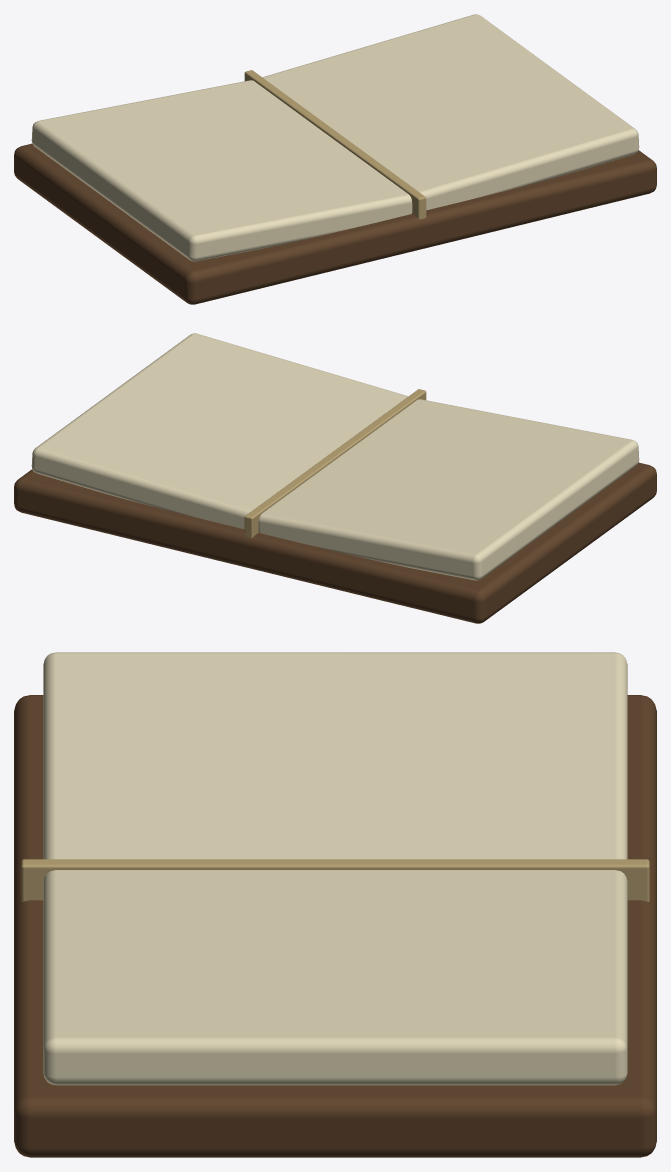
Rendered from referencebook.glb.
3 views of the same model, one above another, from view 1: azimuth 30°, elevation 25°; view 2: azimuth 150°, elevation 25°; view 3: azimuth 270°, elevation 25° (orthographic). The views are drawn at different scales.
Parts seen in each view (by area): view 1: referencebook; view 2: referencebook; view 3: referencebook.
Boxes of the visible parts, x1=… form: referencebook: x1=14, y1=14, x2=656, y2=304; referencebook: x1=14, y1=333, x2=656, y2=623; referencebook: x1=14, y1=652, x2=656, y2=1157.
Bounding box in the file's own units: 0.67 × 0.0835 × 0.44.
